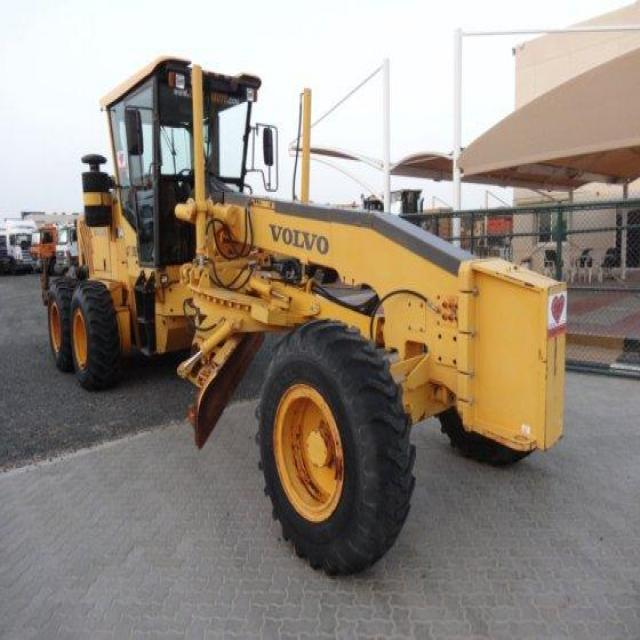Grader: (36, 48, 572, 568)
